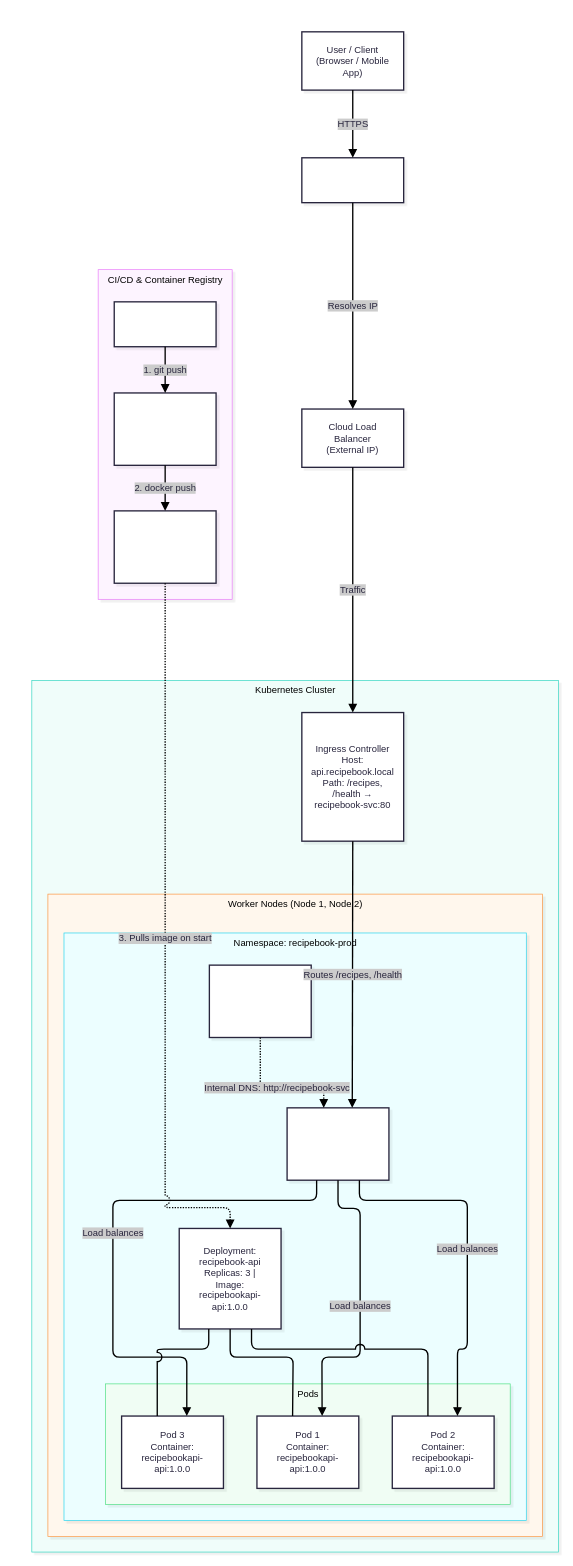
The diagram is 573 pixels wide and 1566 high, and some of its shapes have lost their labels. The shapes that lost their labels are listed below. From the top down, each one's centre as x and y in pixels, then its label:
At point 354,181: "DNS api.recipebook.local".
At point 166,325: "Git Repository github.com/Deiv228/RecipeBookApi".
At point 166,430: "CI/CD Pipeline (GitHub Actions) Build & Push Docker Image".
At point 166,548: "Container Registry (GHCR) ghcr.io/deiv228/recipebookapi-api:1.0.0".
At point 261,1002: "Other Internal Service (Web Frontend / Worker)".
At point 339,1145: "Service: recipebook-svc Type: ClusterIP (Port 80 → 8080)".
